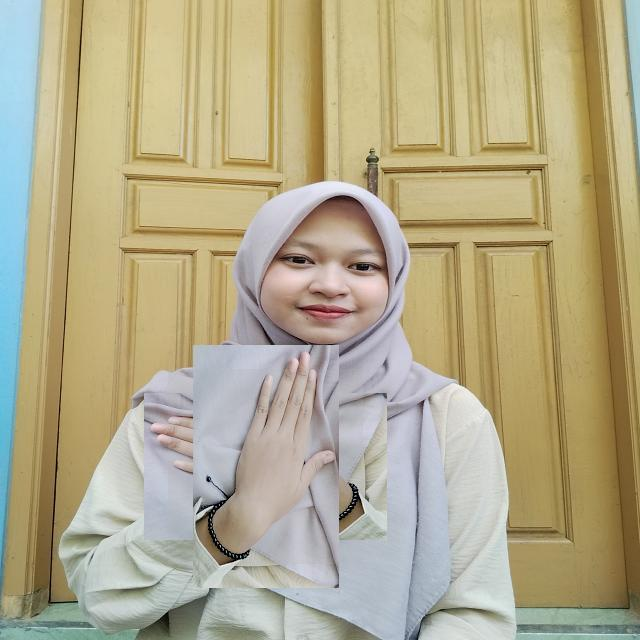tolong: (168, 369, 363, 564)
